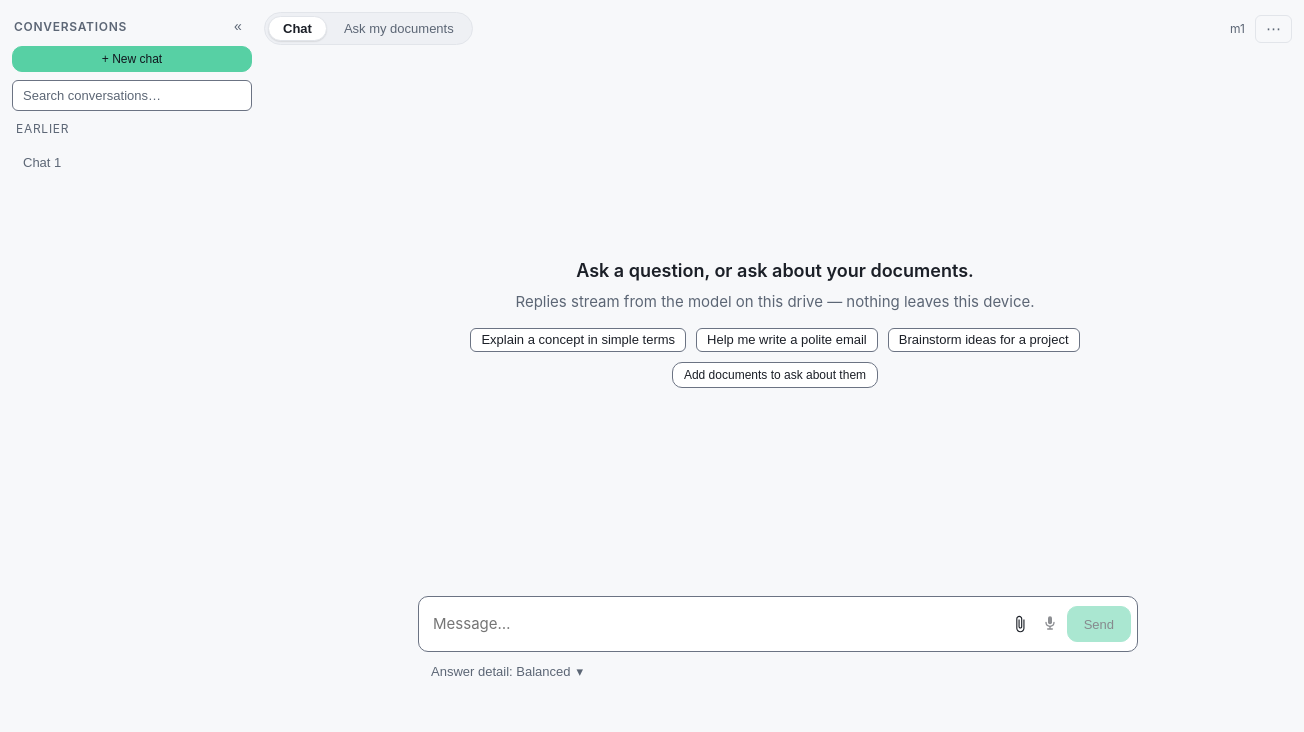
Test: ChatScreen — the document-task busy banner and its cancel (D26) › cancels the running task with no id, even while the Documents screen holds a task, and clears
Click the button with class "chat-conv": (116,162) [12,142,221,182]
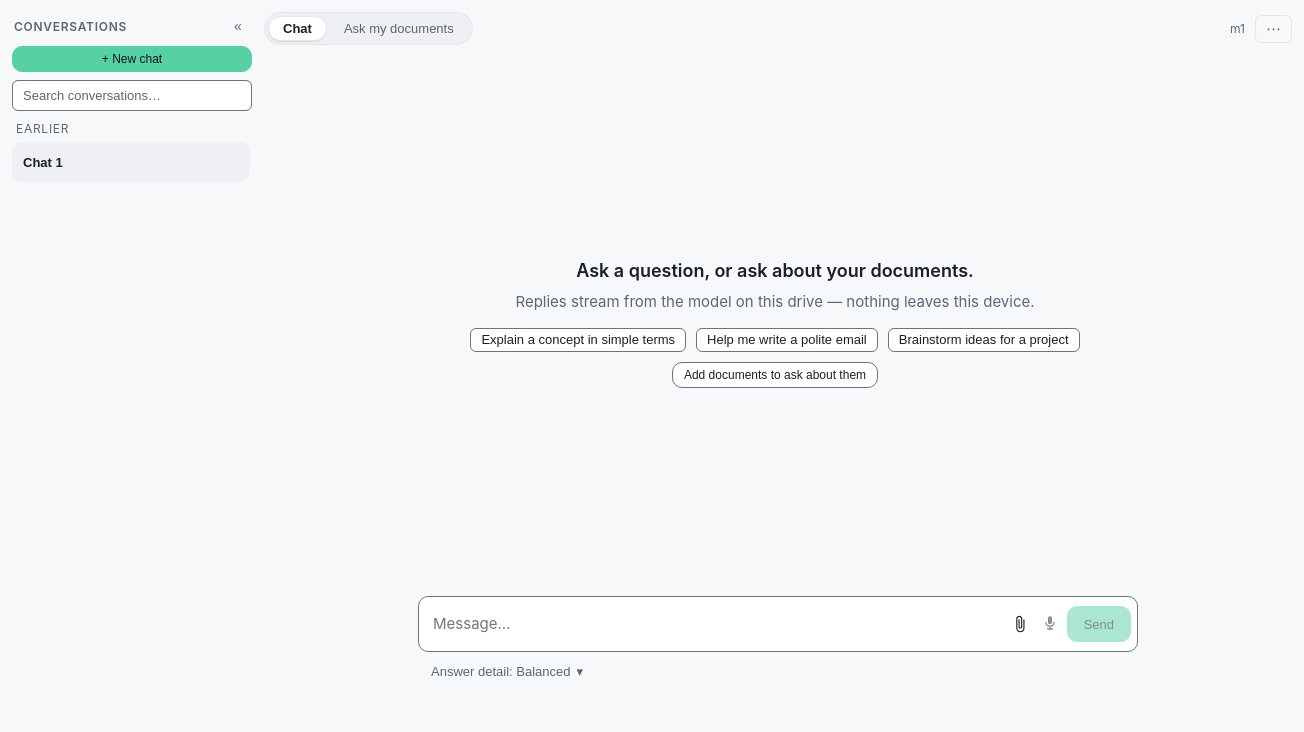
In the text box with placeholder "Message…": (713,624) [423,603,1003,645], type "q"
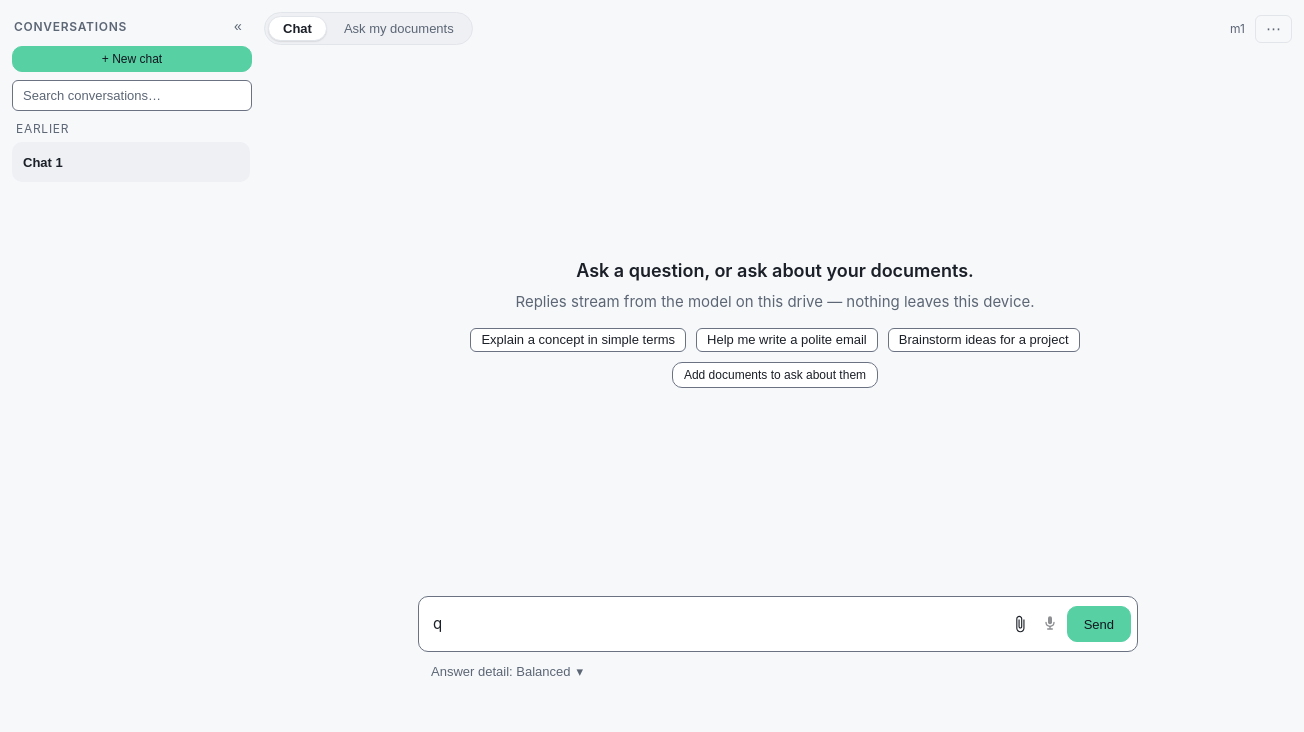
Click the button "Send": (1099,624) [1067,606,1131,642]
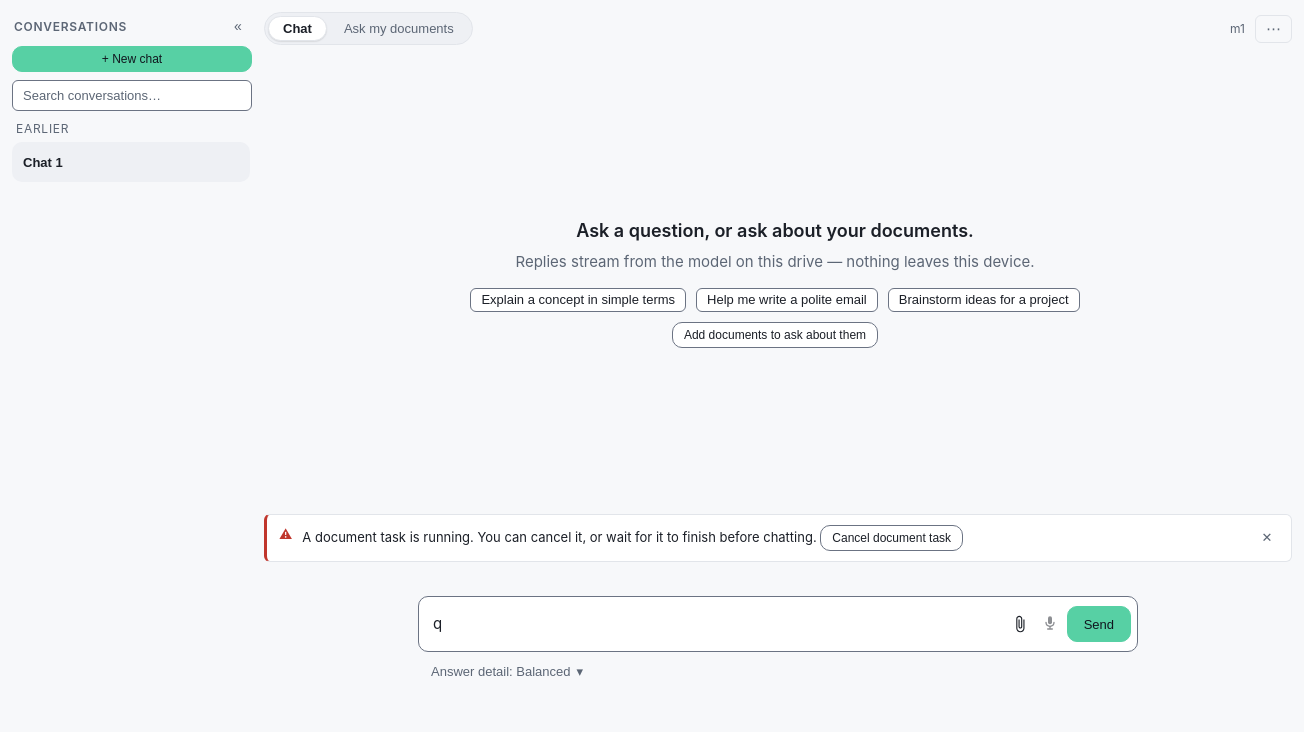
Click the button "Cancel document task": (892,538) [820,525,963,551]
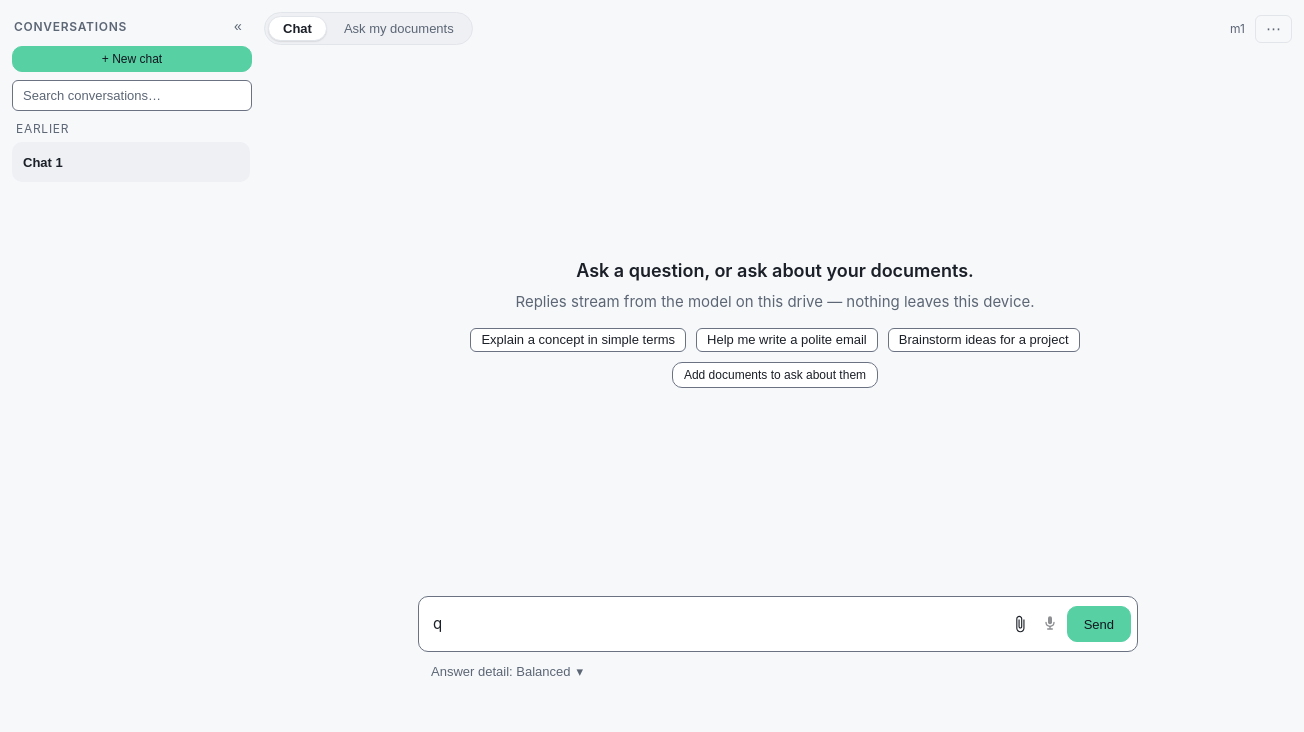
Check: the text "A document task is running" is gone
